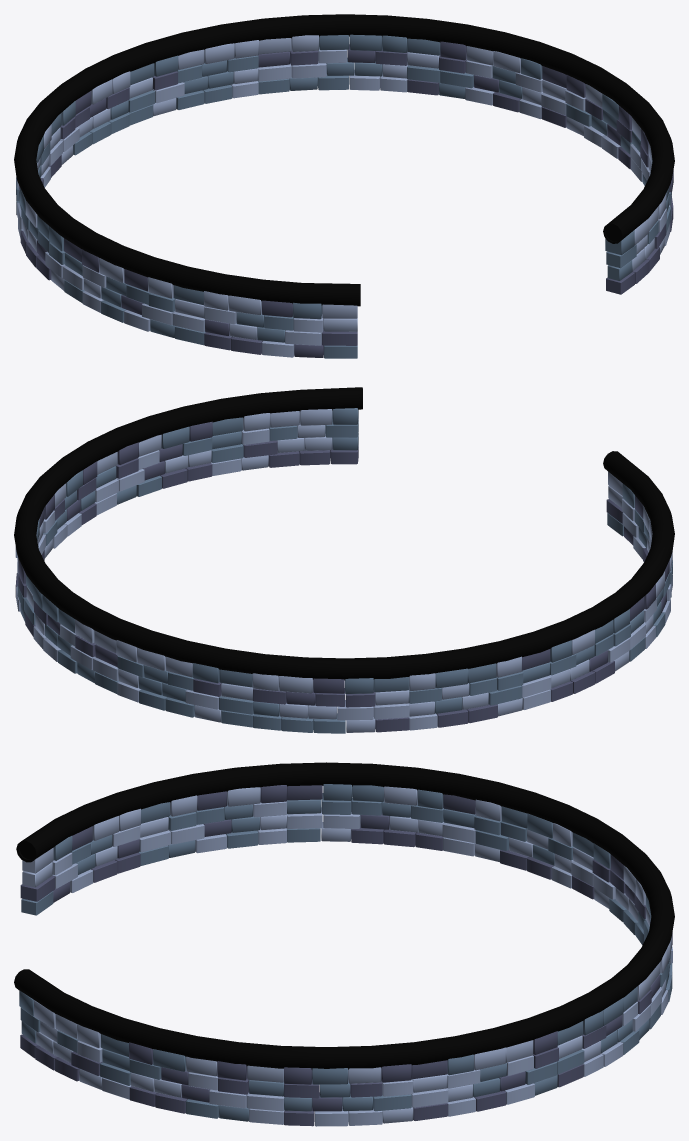
File: FunLargeLvl2.fbx
The picture shows the model from 3 angles, top to bottom: view 1: azimuth 30°, elevation 25°; view 2: azimuth 150°, elevation 25°; view 3: azimuth 270°, elevation 25°; orthographic projection. The views are drawn at different scales.
Visible parts, largest first — view 1: L2Wall; view 2: L2Wall; view 3: L2Wall.
Boxes of the visible parts, bbox=[...] form: L2Wall: bbox=[14, 14, 674, 358]; L2Wall: bbox=[14, 387, 674, 733]; L2Wall: bbox=[14, 762, 674, 1126].
Size of the model in its own units: 498 by 59.52 by 472.
